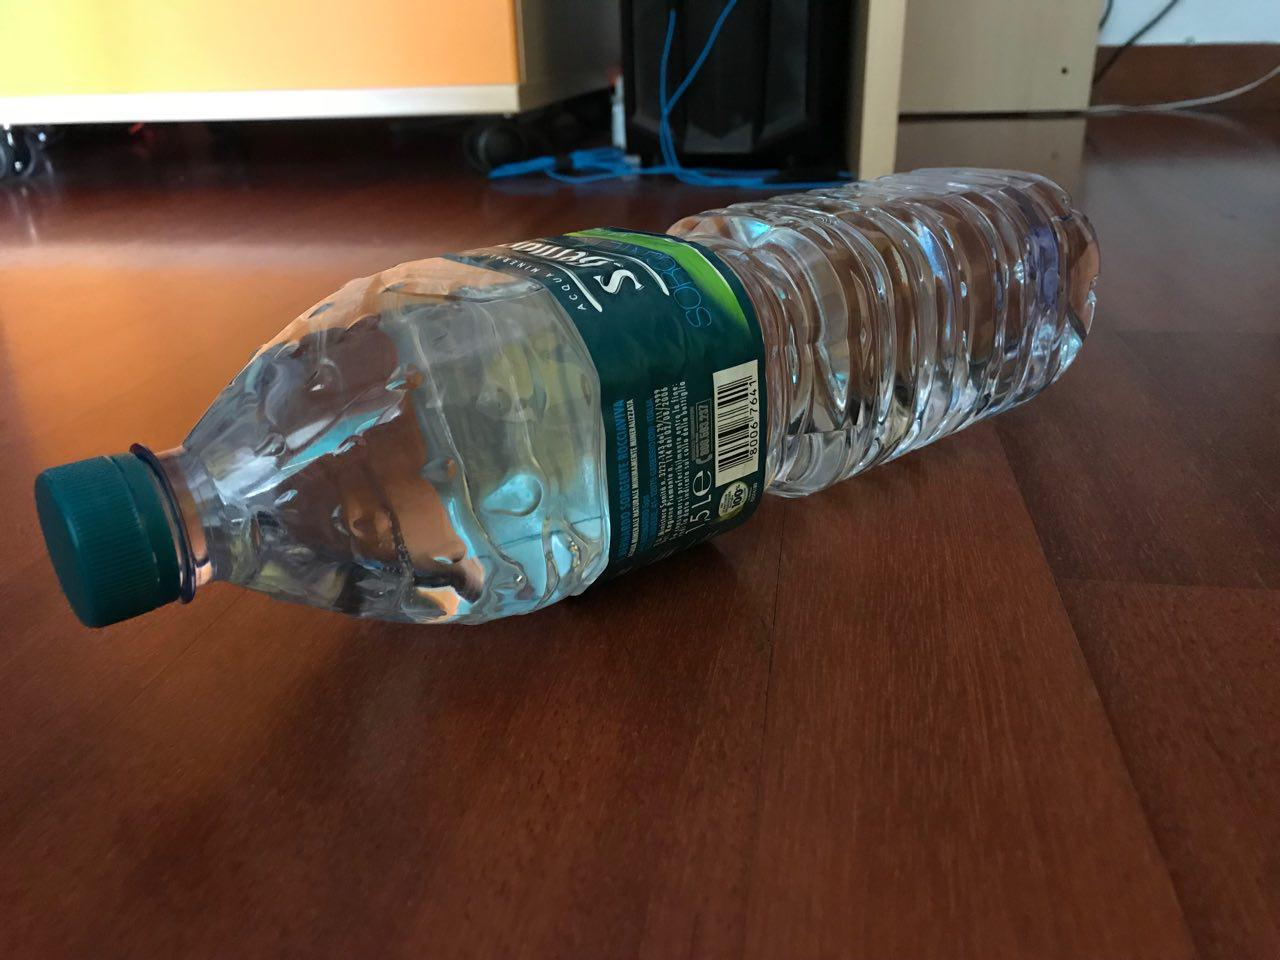san_bernardo: (30, 165, 1105, 631)
